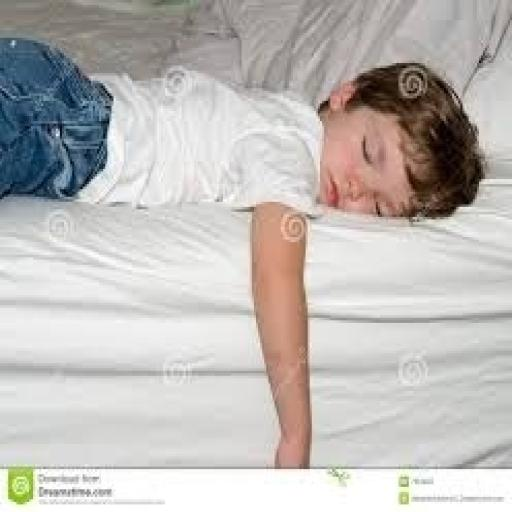sleeping: (0, 32, 487, 466)
